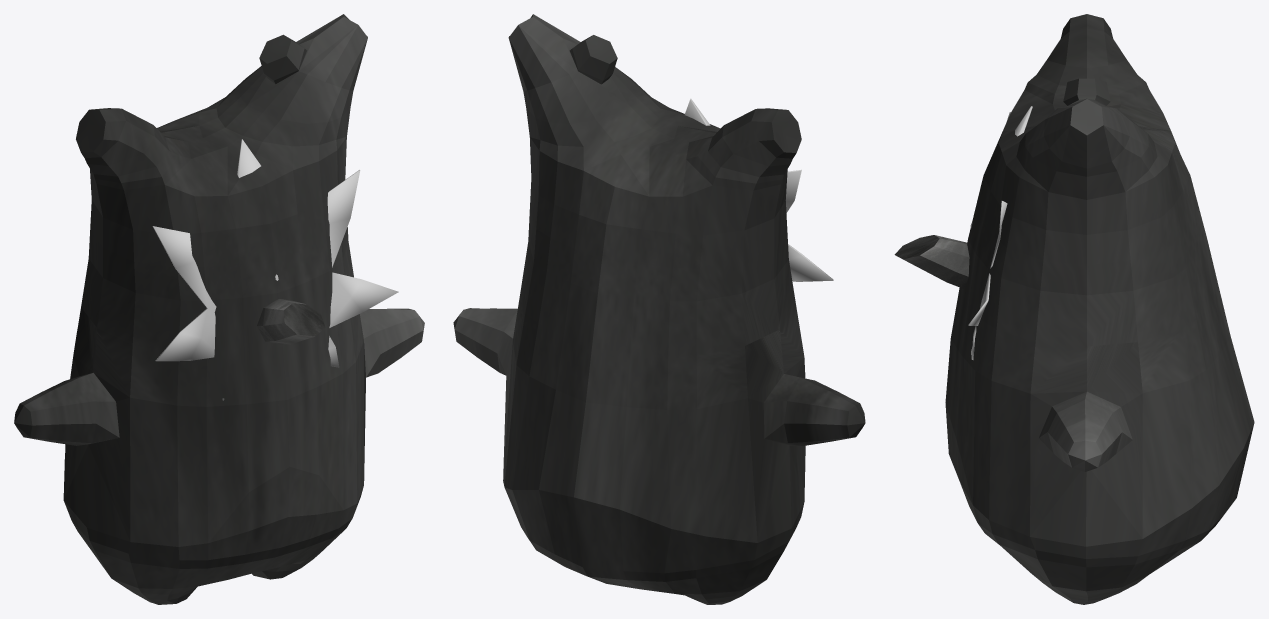
Rendered from frame_0079.obj.
3 renders of one model, left to right at view 1: azimuth 30°, elevation 25°; view 2: azimuth 150°, elevation 25°; view 3: azimuth 270°, elevation 25°, orthographic.
Parts seen in each view (by area): view 1: korok, leaf.003_柱体.013, nose.003_柱体.011; view 2: korok, leaf.003_柱体.013; view 3: korok, nose.003_柱体.011, leaf.003_柱体.013.
Boxes of the visible parts, box(x1,y1,x2,y2) form: korok: box(14, 14, 424, 604); leaf.003_柱体.013: box(152, 139, 398, 400); nose.003_柱体.011: box(257, 299, 325, 344); korok: box(453, 14, 865, 604); leaf.003_柱体.013: box(684, 98, 833, 281); korok: box(945, 14, 1254, 604); nose.003_柱体.011: box(894, 235, 969, 288); leaf.003_柱体.013: box(968, 106, 1032, 360).
Bounding box in the file's own units: 1.78 × 2.24 × 1.36.
